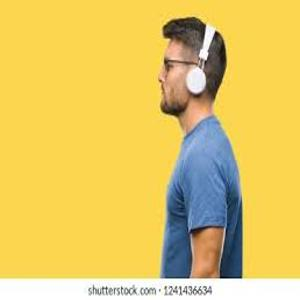Headphones: (178, 17, 220, 98)
